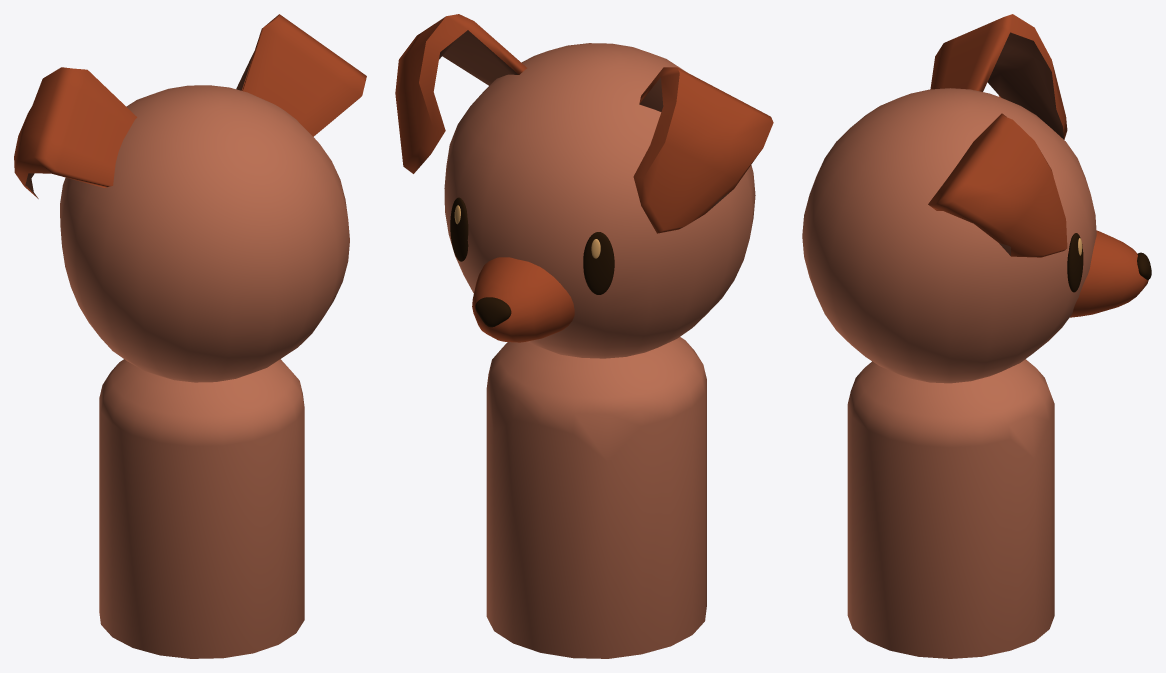
File: dog.fbx
3 views of the same model, side by side, from view 1: azimuth 30°, elevation 25°; view 2: azimuth 150°, elevation 25°; view 3: azimuth 270°, elevation 25° (orthographic). The views are drawn at different scales.
Visible parts, largest first — view 1: head, body, ear, ear1; view 2: body, head, ear, ear1, snoutbase1, eyeL, eyeR, nose; view 3: body, head, ear1, ear, snoutbase1, eyeR.
Boxes of the visible parts, x1,y1,x2,y2 form: head: [60, 85, 349, 382]; body: [99, 359, 304, 658]; ear: [14, 67, 137, 198]; ear1: [236, 14, 366, 136]; body: [486, 337, 706, 658]; head: [444, 43, 755, 358]; ear: [633, 67, 773, 233]; ear1: [395, 14, 527, 173]; snoutbase1: [472, 257, 574, 342]; eyeL: [583, 232, 614, 294]; eyeR: [450, 197, 468, 261]; nose: [475, 297, 511, 327]; body: [847, 359, 1054, 658]; head: [802, 88, 1096, 383]; ear1: [928, 113, 1067, 257]; ear: [930, 14, 1067, 139]; snoutbase1: [1070, 230, 1148, 317]; eyeR: [1067, 233, 1083, 292].
Size of the model in its own units: 5.09 by 7.9 by 4.56.
